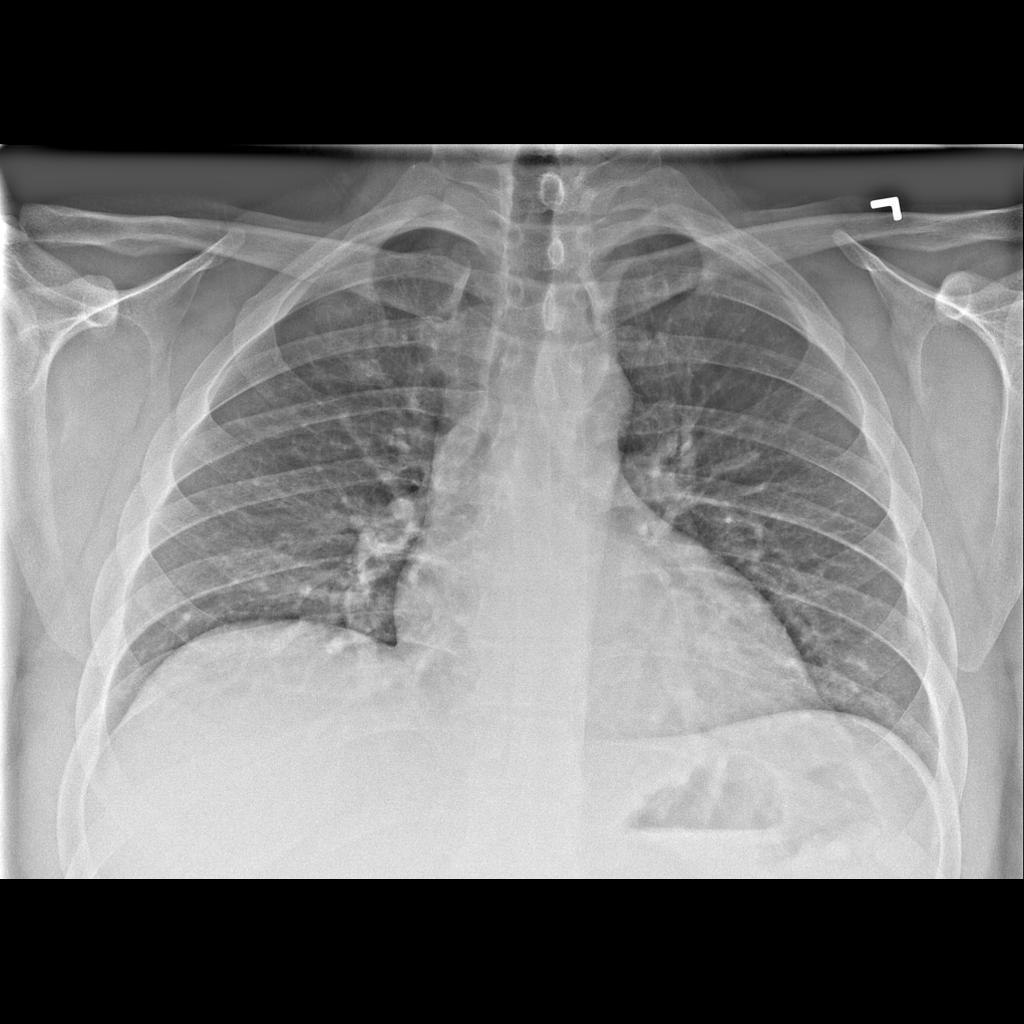Nodule: (344, 360, 395, 393)
